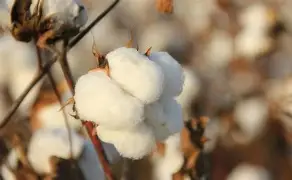crops: (0, 2, 287, 179)
